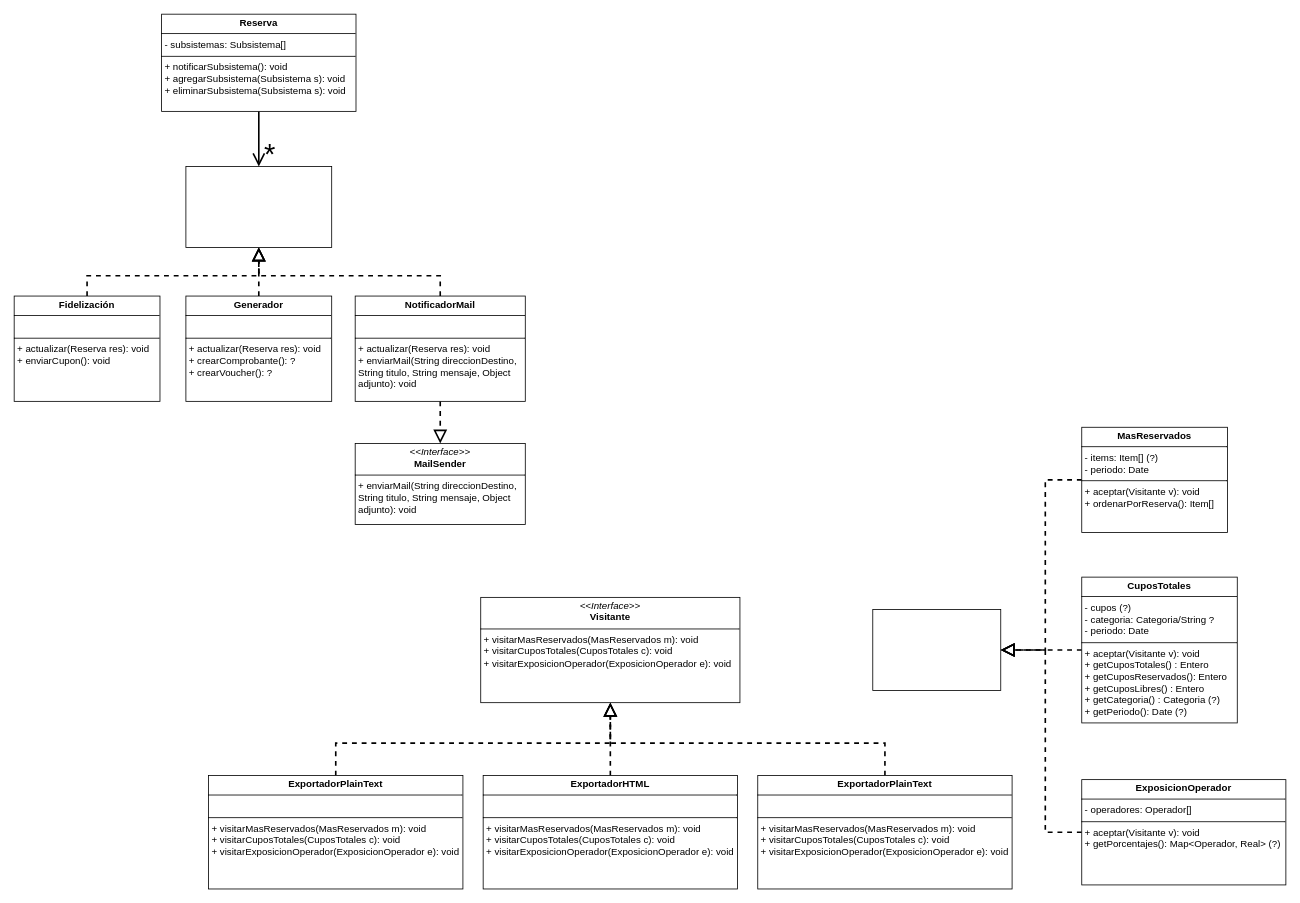
This 1300x903 diagram has some shape labels left out. Here are the shapes that lost their labels. From the top down, the centre of each, then its label:
At pixel 258 206: "<<Interface>> Subsistema + actualizar(Reserva res): void".
At pixel 936 650: "<<Interface>> Reporte + aceptar(Visitante v): void".
